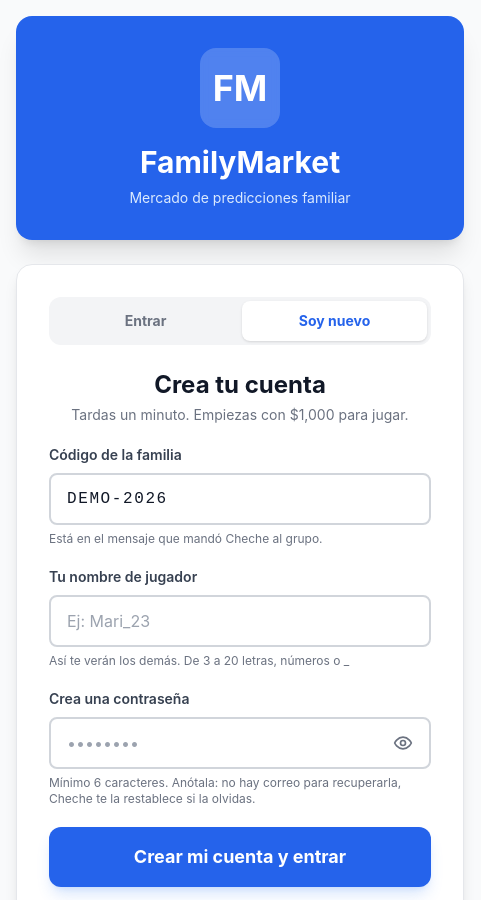
Test: Recuperar el acceso › al registrarse con un nombre parecido a uno que ya existe se avisa para no duplicar la cuenta
The image size is (481, 900).
Type "Cheche_2" into the field labelled "Tu nombre de jugador".
click(240, 621); type("Cheche_2")  # box top-left (49, 595), bottom-right (431, 647)
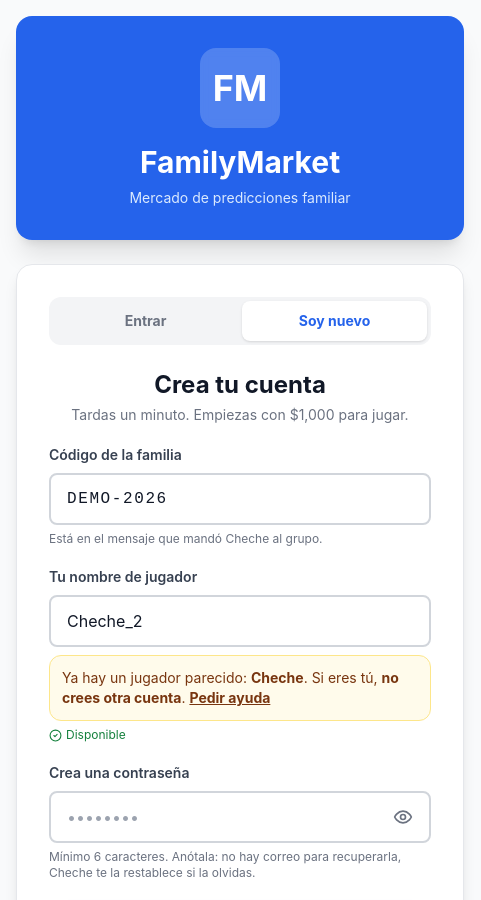
Now the text "Ya hay un jugador parecido" is shown, box top-left (62, 669), bottom-right (251, 686)
Now the message shows "Cheche", box top-left (251, 669), bottom-right (304, 686)
Now the button "Pedir ayuda" is shown, box top-left (189, 688), bottom-right (270, 708)
